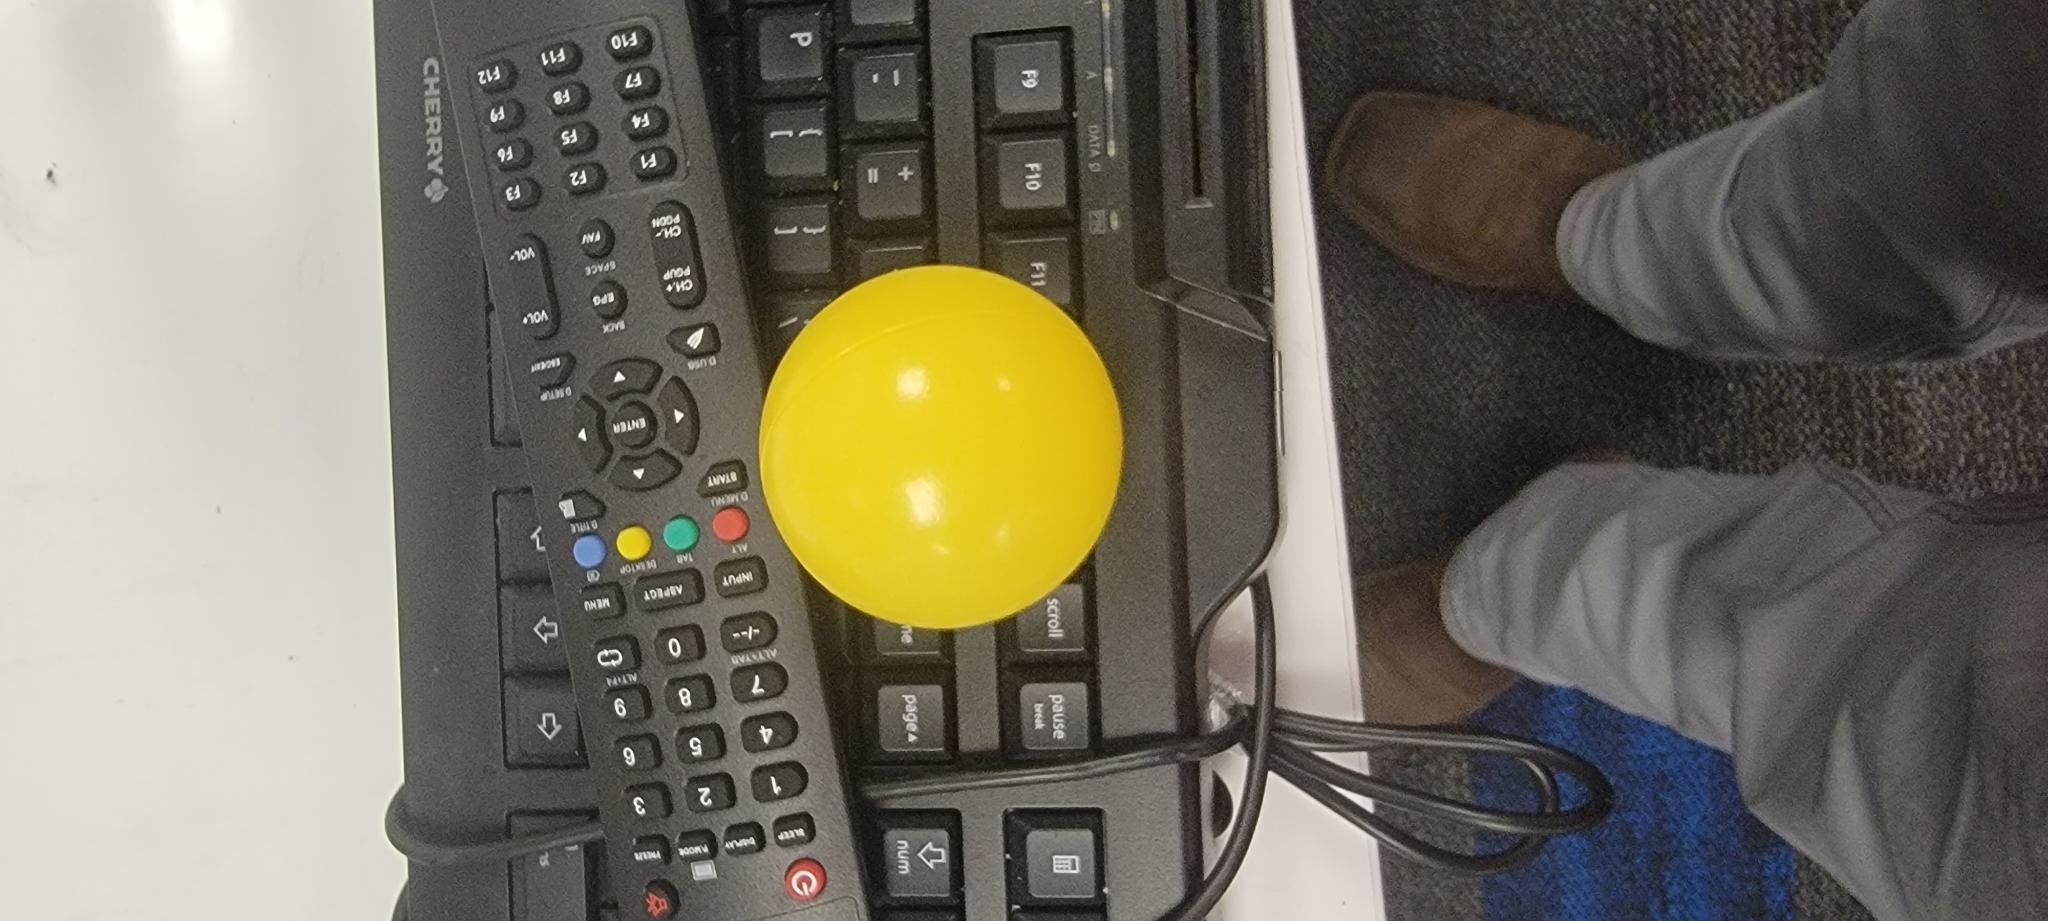Yellow-Ball: (925, 289, 1293, 653)
